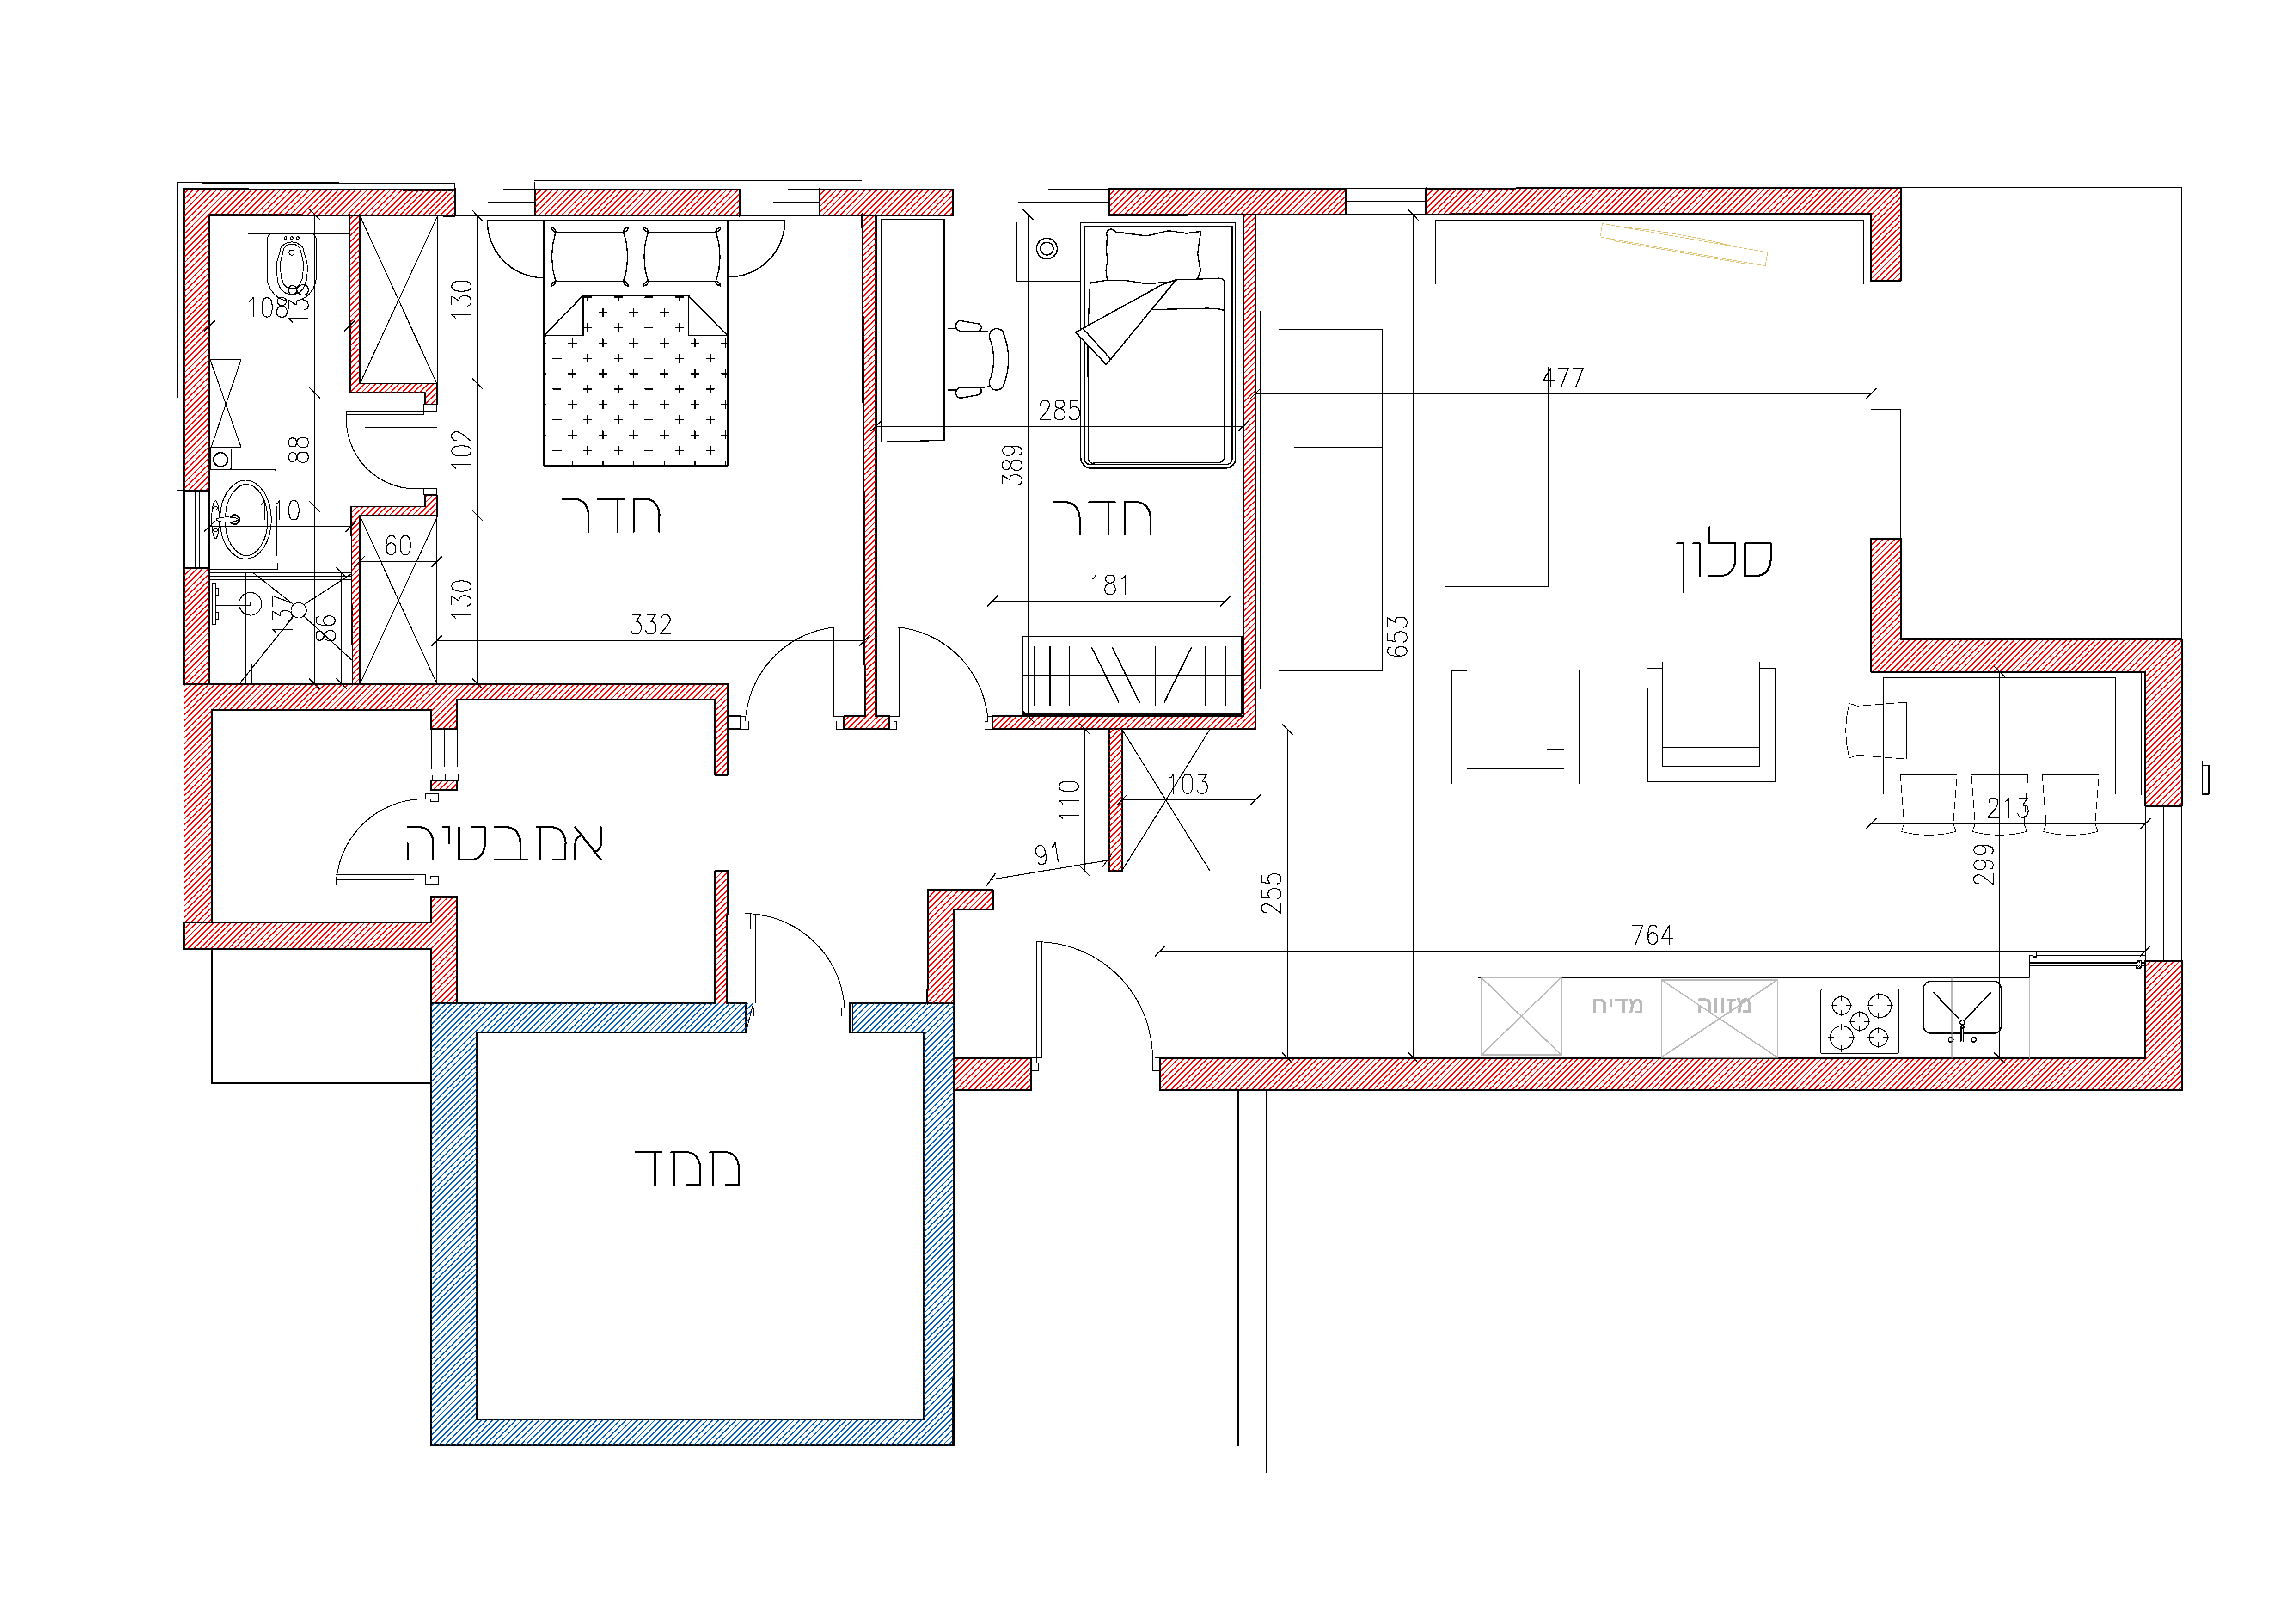door: (1007, 930, 1154, 1046), (316, 785, 419, 902), (731, 611, 851, 700), (738, 899, 851, 990), (884, 613, 991, 702), (326, 402, 412, 493), (740, 218, 800, 281), (486, 218, 537, 283)
wall: (1454, 1060, 2170, 1088), (433, 1004, 475, 1445), (1428, 190, 1898, 214), (924, 1006, 951, 1443), (442, 1422, 937, 1443), (433, 1002, 744, 1030), (1873, 642, 2173, 671), (861, 216, 875, 727), (186, 686, 454, 709), (186, 923, 454, 946), (184, 688, 209, 920), (1242, 214, 1252, 728), (1109, 191, 1342, 212), (2149, 648, 2178, 799), (458, 686, 721, 700), (1873, 541, 1901, 669), (823, 191, 951, 214), (928, 892, 952, 1006), (186, 571, 207, 679), (433, 901, 456, 1001), (958, 1060, 1030, 1090)
